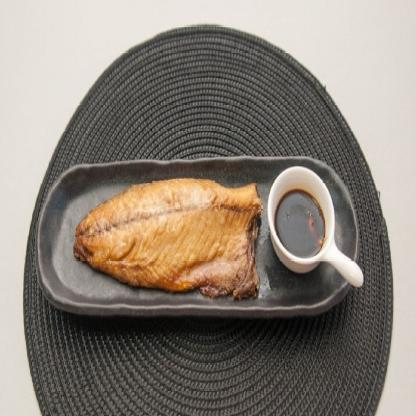Peixe: (72, 158, 271, 315)
